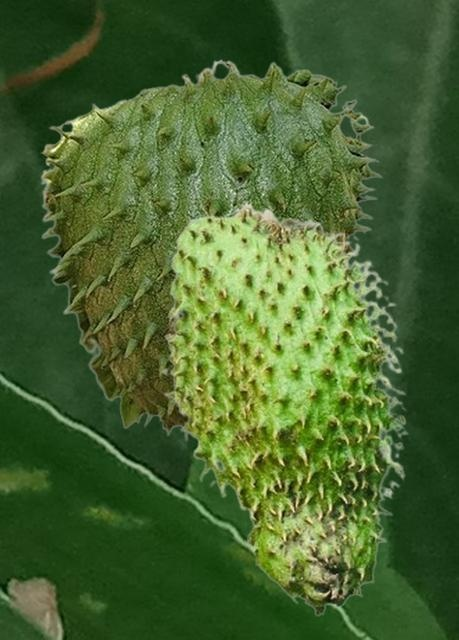guyabano: (40, 58, 382, 442), (161, 202, 409, 616)
